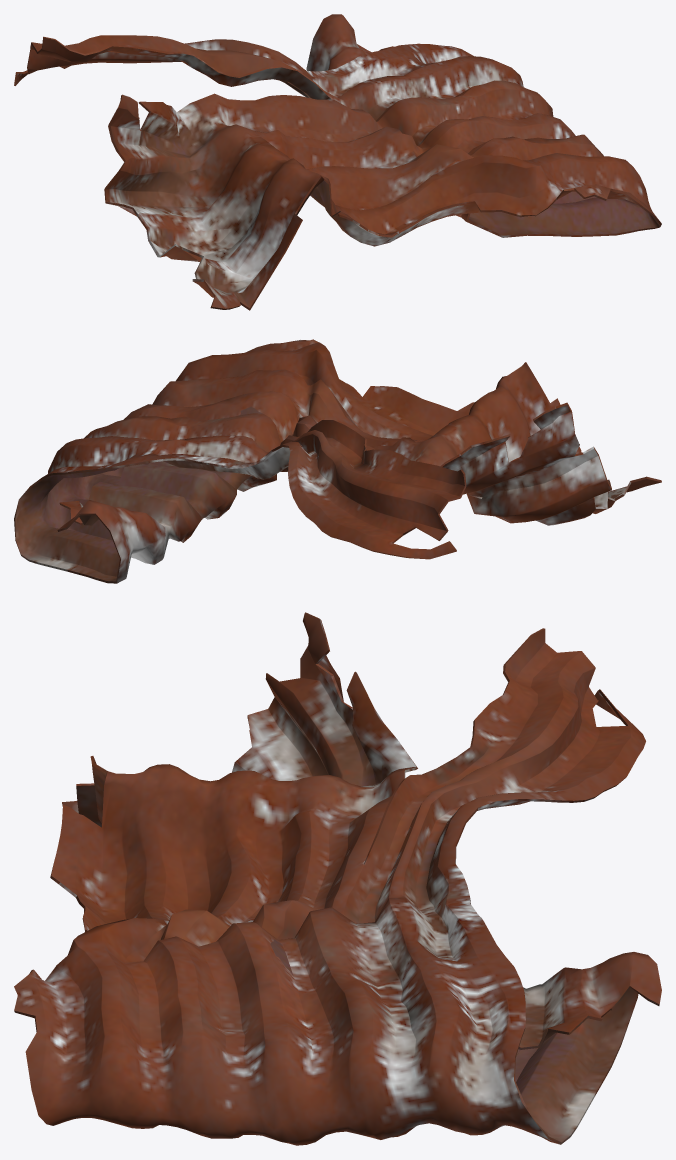
Rendered from MOD_DebrisCorrugated_A.fbx.
3 views of the same model, one above another, from view 1: azimuth 30°, elevation 25°; view 2: azimuth 150°, elevation 25°; view 3: azimuth 270°, elevation 25° (orthographic). The views are drawn at different scales.
Parts seen in each view (by area): view 1: MOD_DebrisCorrugated_A; view 2: MOD_DebrisCorrugated_A; view 3: MOD_DebrisCorrugated_A.
Boxes of the visible parts, left/top/right/bottom form: MOD_DebrisCorrugated_A: left=14, top=14, right=661, bottom=310; MOD_DebrisCorrugated_A: left=14, top=339, right=661, bottom=583; MOD_DebrisCorrugated_A: left=14, top=612, right=661, bottom=1145.
Size of the model in its own units: 72.34 by 26.45 by 62.55.
